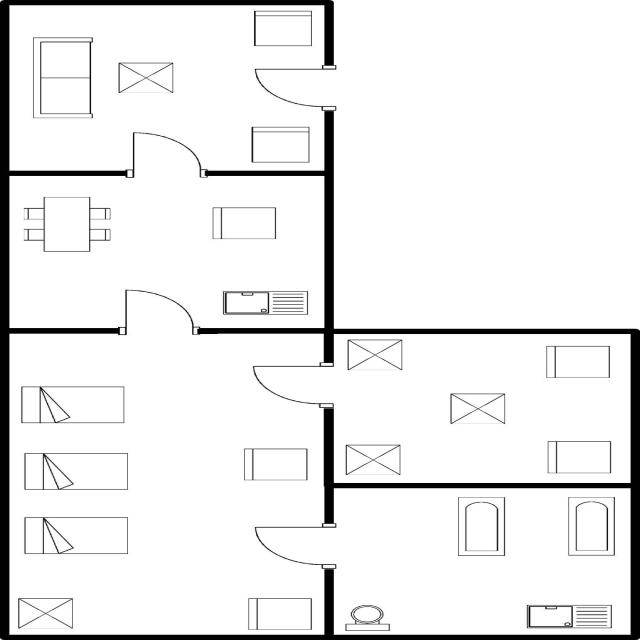bed: (13, 383, 134, 428), (17, 514, 135, 558), (16, 449, 131, 494)
coffee_table: (112, 59, 184, 98), (12, 594, 81, 631), (340, 337, 409, 372), (340, 442, 407, 478), (442, 391, 510, 426)
dining_table: (16, 193, 120, 256)
large_sink: (340, 603, 394, 634)
large_sofa: (25, 32, 101, 124)
sink: (519, 600, 620, 632), (215, 288, 313, 320)
small_sofa: (536, 342, 617, 384), (243, 122, 315, 168), (247, 7, 316, 52), (540, 437, 617, 477), (204, 203, 280, 243)
tub: (444, 494, 512, 560), (560, 494, 624, 559)
